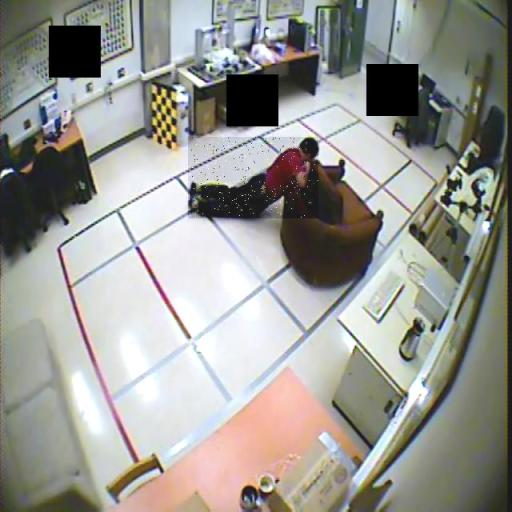Fall: (188, 137, 318, 218)
